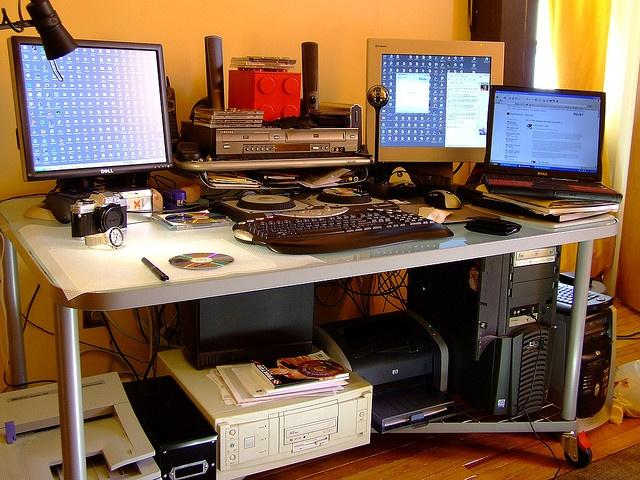AIO PC-Monitor-TV: (9, 33, 174, 181), (365, 38, 504, 163)
Printer: (314, 310, 463, 434)
